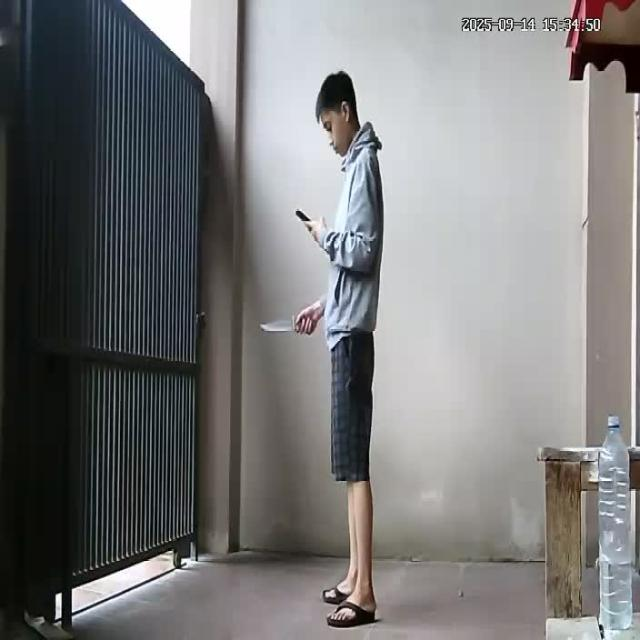senjata_tajam: (258, 316, 296, 334)
